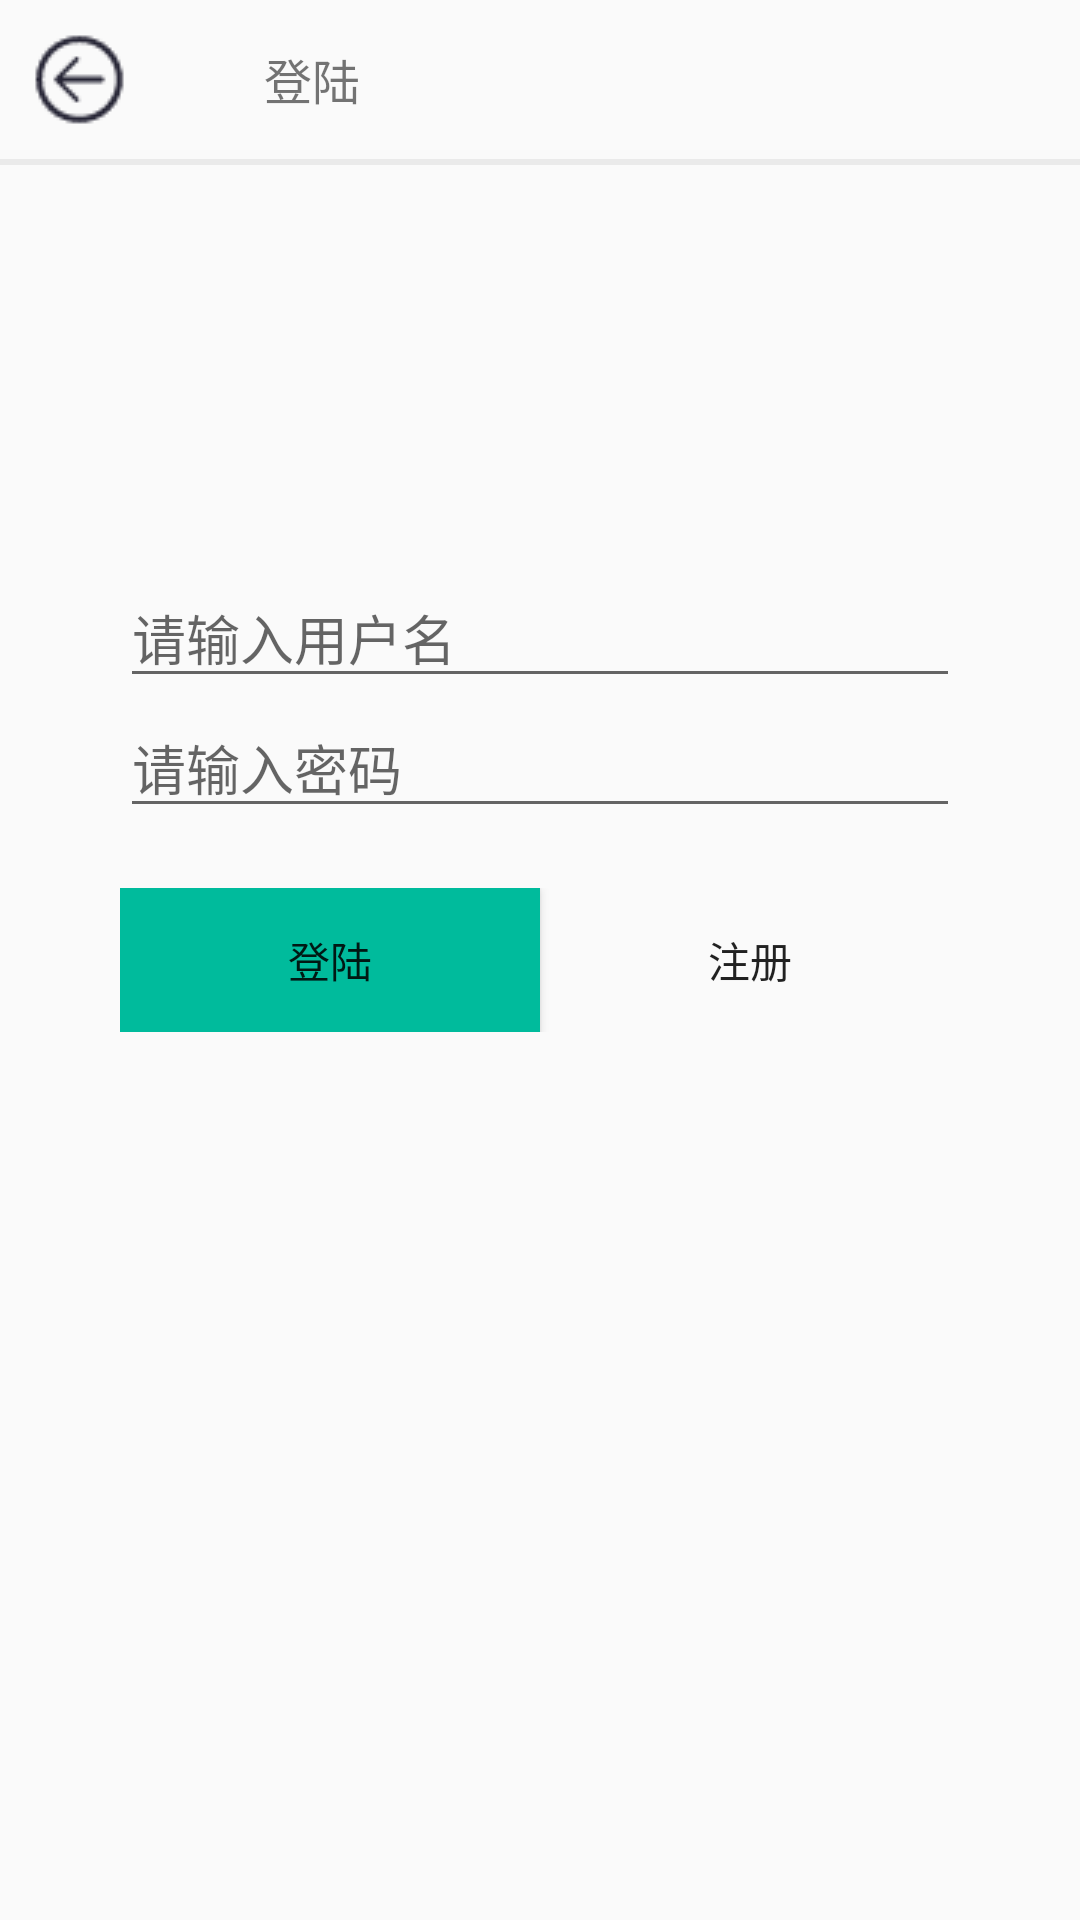

Locate icon controls on the screen. Image size 1080px×1920px, boxes as [left=x1, top=y1, right=x2, bottom=y2].
back: [left=35, top=35, right=124, bottom=124]
